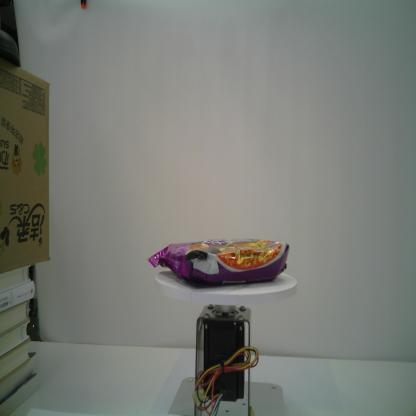Instant Noodles: (146, 237, 290, 287)
